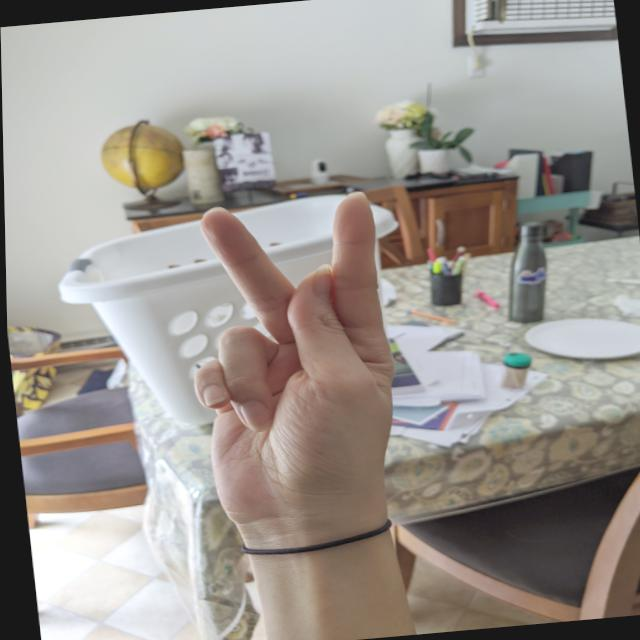K: (165, 183, 418, 545)
